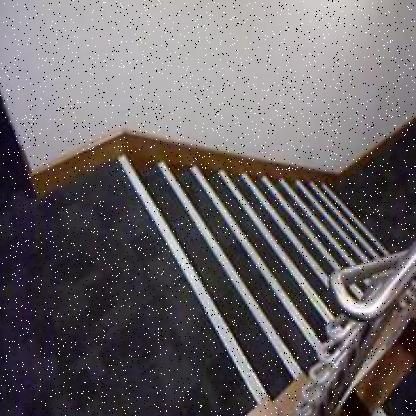stair_down: (101, 120, 348, 360)
